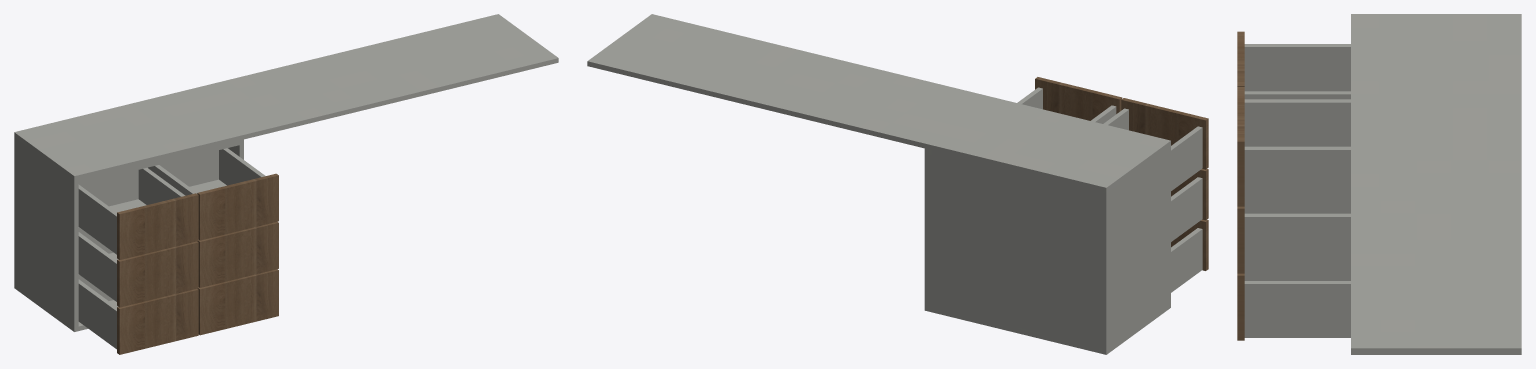
The model's file is meuble.glb.
3 renders of one model, left to right at view 1: azimuth 30°, elevation 25°; view 2: azimuth 150°, elevation 25°; view 3: azimuth 270°, elevation 25°, orthographic. The views are drawn at different scales.
Visible parts, largest first — view 1: world; view 2: world; view 3: world.
Part boxes in pixels (box(x1,y1,x2,y2)): world: box(14, 14, 558, 354); world: box(587, 14, 1208, 354); world: box(1237, 14, 1521, 354).
Size of the model in its own units: 2.09 by 0.643 by 0.75.
1 material, 1 textured.
